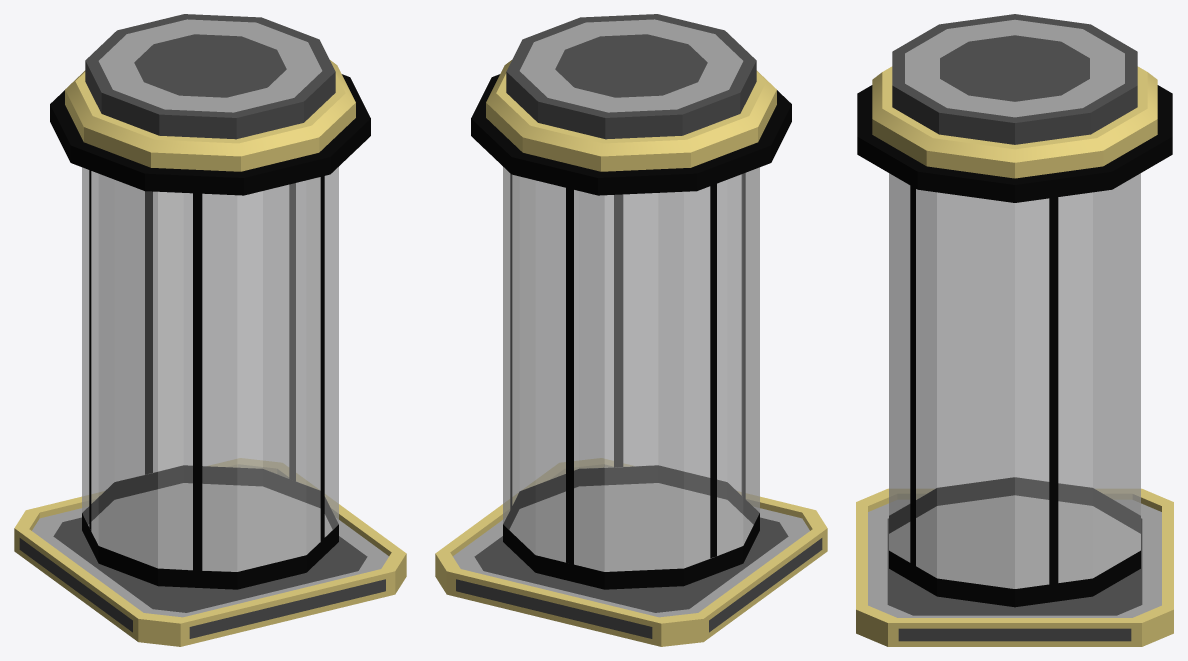
The model's file is machine capsule.fbx.
3 renders of one model, left to right at view 1: azimuth 30°, elevation 25°; view 2: azimuth 150°, elevation 25°; view 3: azimuth 270°, elevation 25°, orthographic. The views are drawn at different scales.
Parts seen in each view (by area): view 1: capsule; view 2: capsule; view 3: capsule.
Boxes of the visible parts, bbox=[...] form: capsule: bbox=[14, 14, 406, 646]; capsule: bbox=[435, 14, 827, 646]; capsule: bbox=[856, 14, 1173, 646].
Size of the model in its own units: 1.9 by 3.24 by 1.82.
